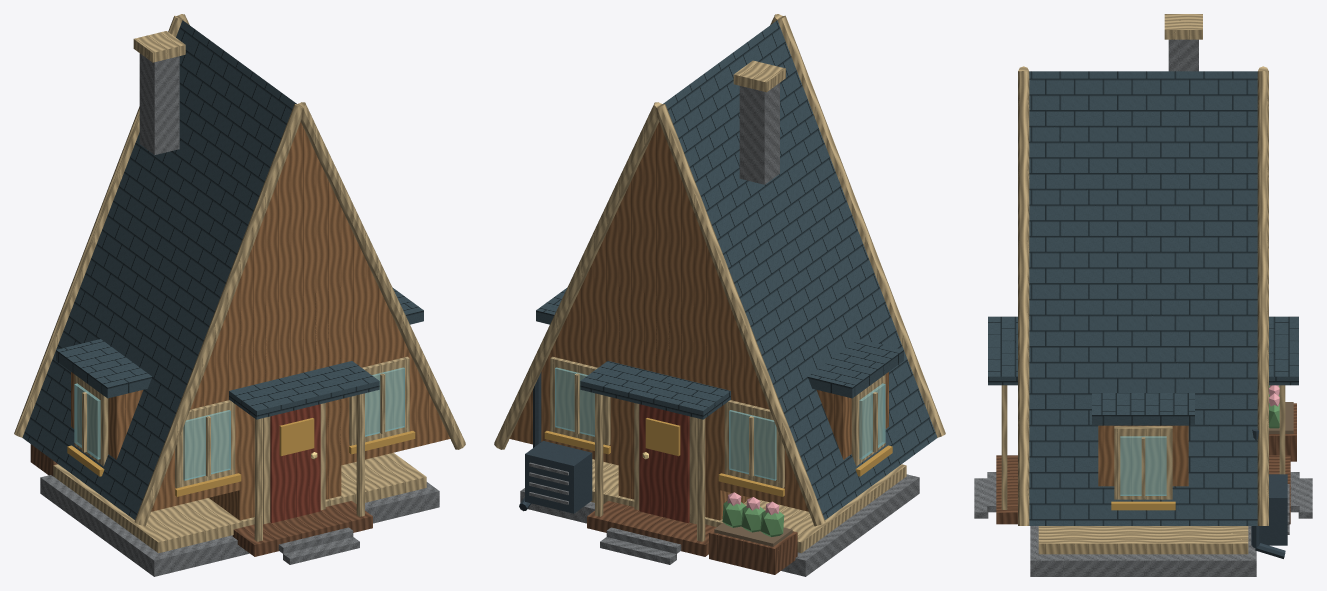
Rendered from house_lv3.glb.
3 views of the same model, side by side, from view 1: azimuth 30°, elevation 25°; view 2: azimuth 150°, elevation 25°; view 3: azimuth 270°, elevation 25° (orthographic).
Visible parts, largest first — view 1: steep_roof, a_frame_gables, walls, floor_trim, foundation, a_frame_edge, a_frame_edge.002, front_porch_canopy, front_door, front_window_frame, chimney, a_frame_edge.001 (+16 smaller); view 2: steep_roof, a_frame_gables, a_frame_edge.001, walls, a_frame_edge.003, back_porch_canopy, a_frame_edge, back_door, foundation, back_window_frame, chimney, back_ac_unit (+20 smaller); view 3: steep_roof.001, floor_trim, foundation, a_frame_edge.002, a_frame_edge.003, right_window_frame, right_dormer_cap, right_window_glass, right_dormer, back_porch_canopy, front_porch_canopy, back_ac_unit (+10 smaller).
Part boxes in pixels (left/top/right/bottom): steep_roof: left=22, top=20, right=296, bottom=519; a_frame_gables: left=151, top=122, right=450, bottom=511; walls: left=209, top=287, right=341, bottom=520; floor_trim: left=53, top=453, right=426, bottom=553; foundation: left=40, top=475, right=439, bottom=576; a_frame_edge: left=134, top=104, right=302, bottom=526; a_frame_edge.002: left=297, top=102, right=465, bottom=449; front_porch_canopy: left=229, top=361, right=379, bottom=419; front_door: left=270, top=404, right=320, bottom=522; front_window_frame: left=175, top=400, right=235, bottom=488; chimney: left=139, top=53, right=179, bottom=154; a_frame_edge.001: left=14, top=15, right=182, bottom=437; steep_roof: left=663, top=20, right=937, bottom=519; a_frame_gables: left=509, top=122, right=808, bottom=511; a_frame_edge.001: left=657, top=104, right=825, bottom=526; walls: left=618, top=287, right=750, bottom=520; a_frame_edge.003: left=494, top=102, right=662, bottom=449; back_porch_canopy: left=580, top=361, right=730, bottom=419; a_frame_edge: left=777, top=15, right=945, bottom=437; back_door: left=639, top=404, right=689, bottom=522; foundation: left=520, top=474, right=919, bottom=576; back_window_frame: left=724, top=400, right=784, bottom=488; chimney: left=739, top=83, right=779, bottom=184; back_ac_unit: left=525, top=441, right=592, bottom=513; steep_roof.001: left=1029, top=71, right=1257, bottom=525; floor_trim: left=1038, top=526, right=1248, bottom=554; foundation: left=1030, top=526, right=1256, bottom=576; a_frame_edge.002: left=1018, top=71, right=1029, bottom=525; a_frame_edge.003: left=1257, top=71, right=1268, bottom=525; right_window_frame: left=1114, top=426, right=1172, bottom=499; right_dormer_cap: left=1092, top=393, right=1194, bottom=425; right_window_glass: left=1120, top=436, right=1166, bottom=495; right_dormer: left=1098, top=425, right=1188, bottom=486; back_porch_canopy: left=1269, top=316, right=1298, bottom=385; front_porch_canopy: left=988, top=316, right=1017, bottom=385; back_ac_unit: left=1251, top=474, right=1287, bottom=545.
Bounding box in the file's own units: 3.3 × 4.38 × 2.94.
13 materials, 7 textured.
